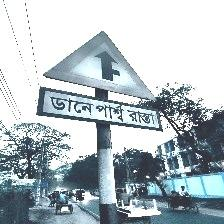Side-road-right: (38, 30, 161, 131)
